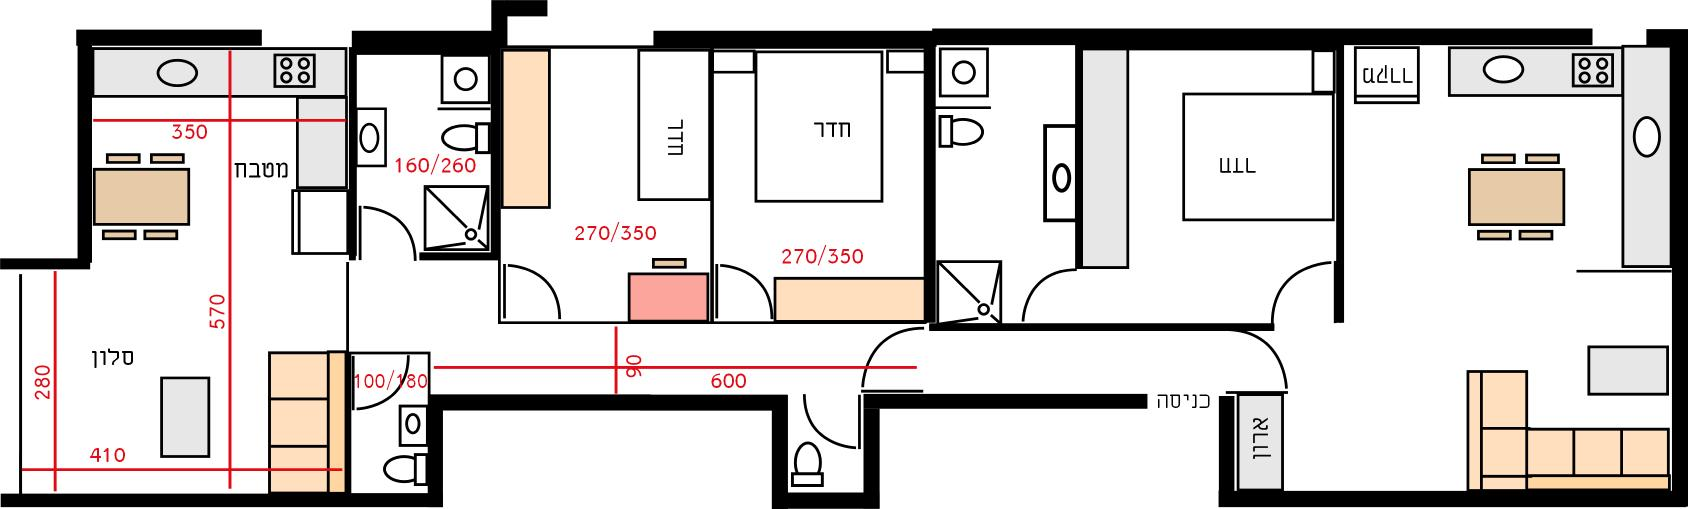wall: (655, 27, 1601, 44), (1670, 32, 1688, 490), (1248, 493, 1671, 509), (438, 397, 778, 413), (870, 393, 1149, 410), (354, 29, 502, 54), (81, 27, 261, 46), (26, 492, 280, 504), (859, 395, 880, 504), (1216, 398, 1235, 501)
